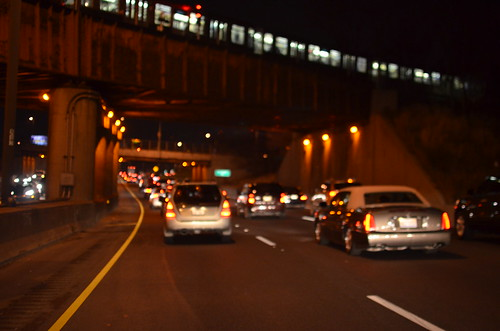bridge: (4, 1, 491, 148)
car: (315, 189, 450, 254), (162, 180, 232, 240), (241, 179, 296, 224)
street: (21, 200, 500, 331)
train: (104, 1, 498, 100)
